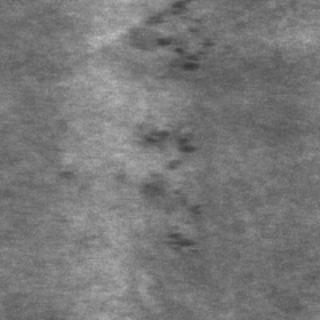rolled pit: (136, 114, 208, 256), (128, 0, 210, 70)
